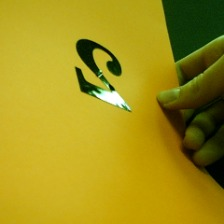orange2: (70, 35, 139, 116)
